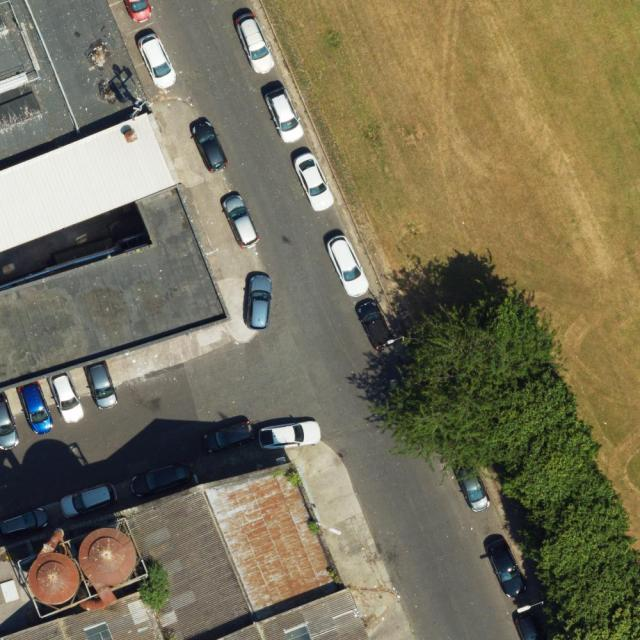roof: (0, 0, 231, 388), (0, 459, 373, 640)
skylight: (79, 620, 112, 640), (283, 624, 313, 640)
